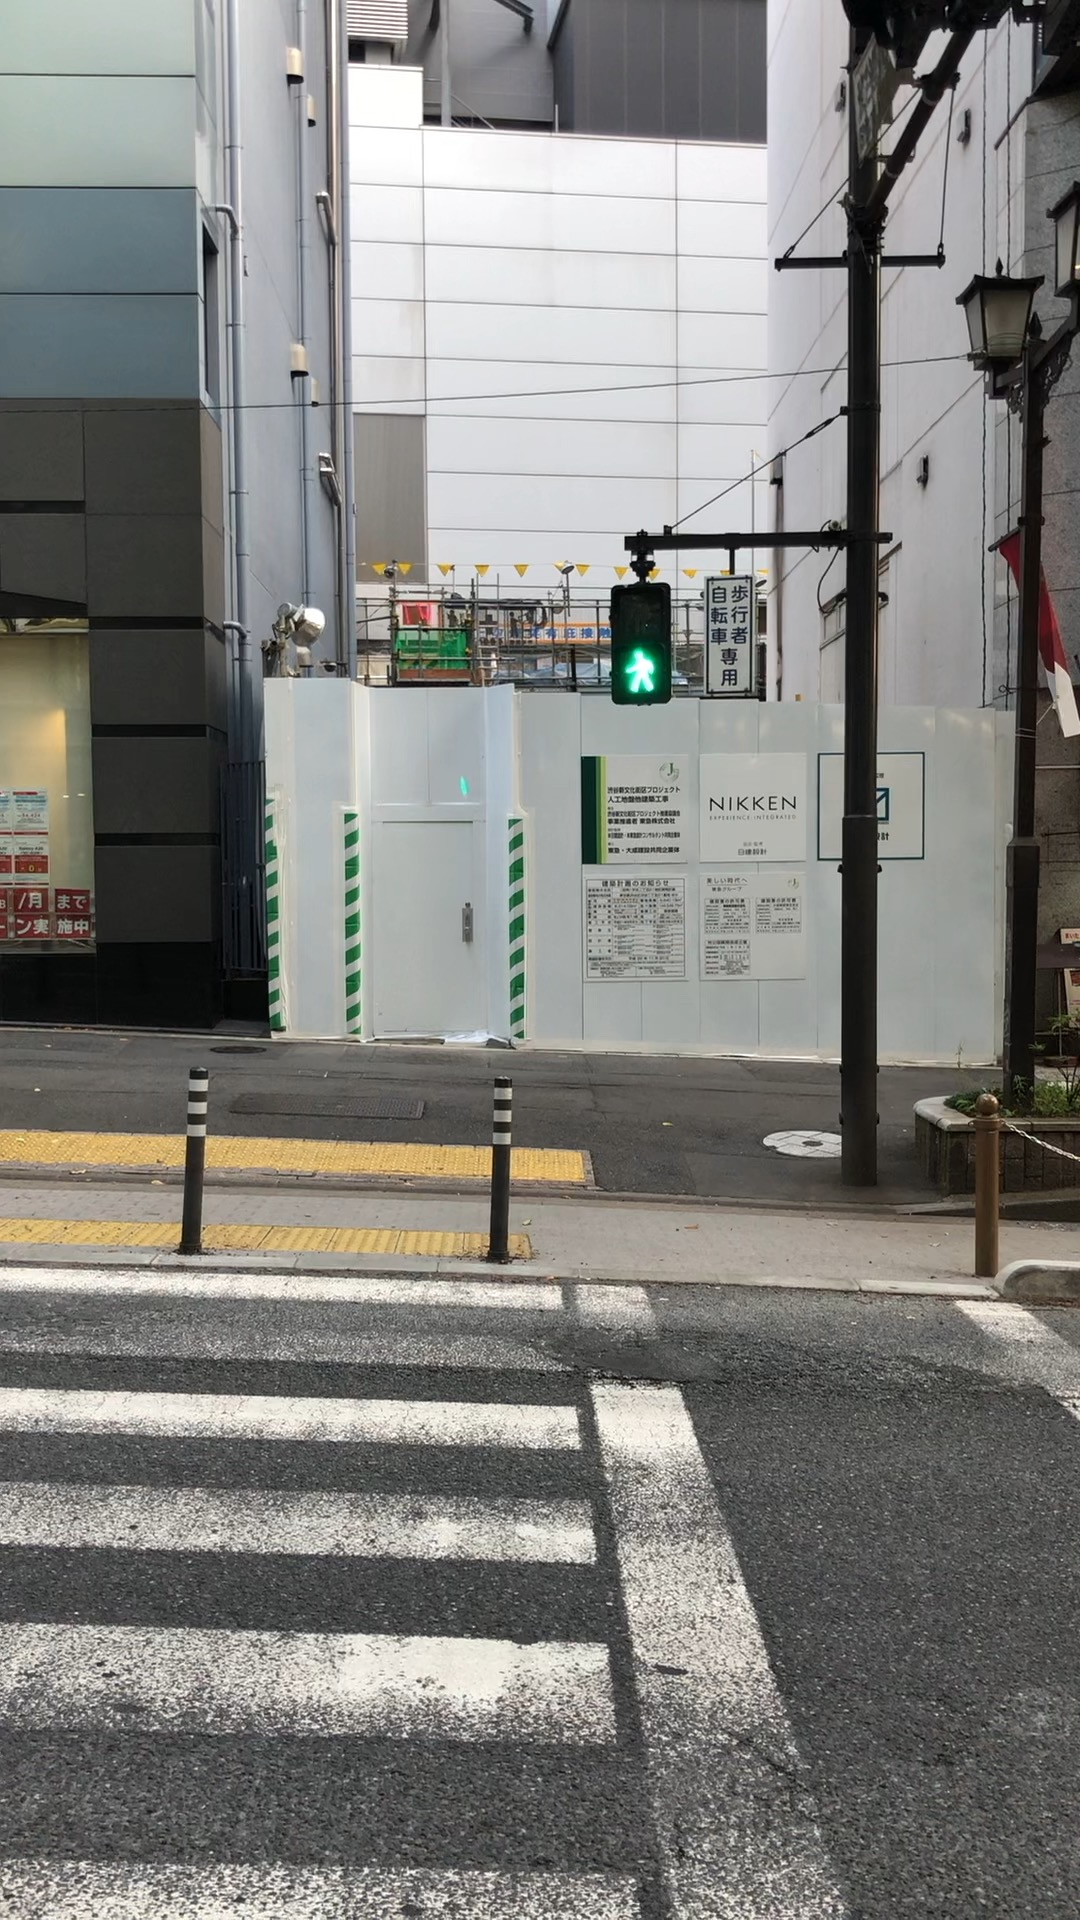green: (611, 585, 671, 705)
